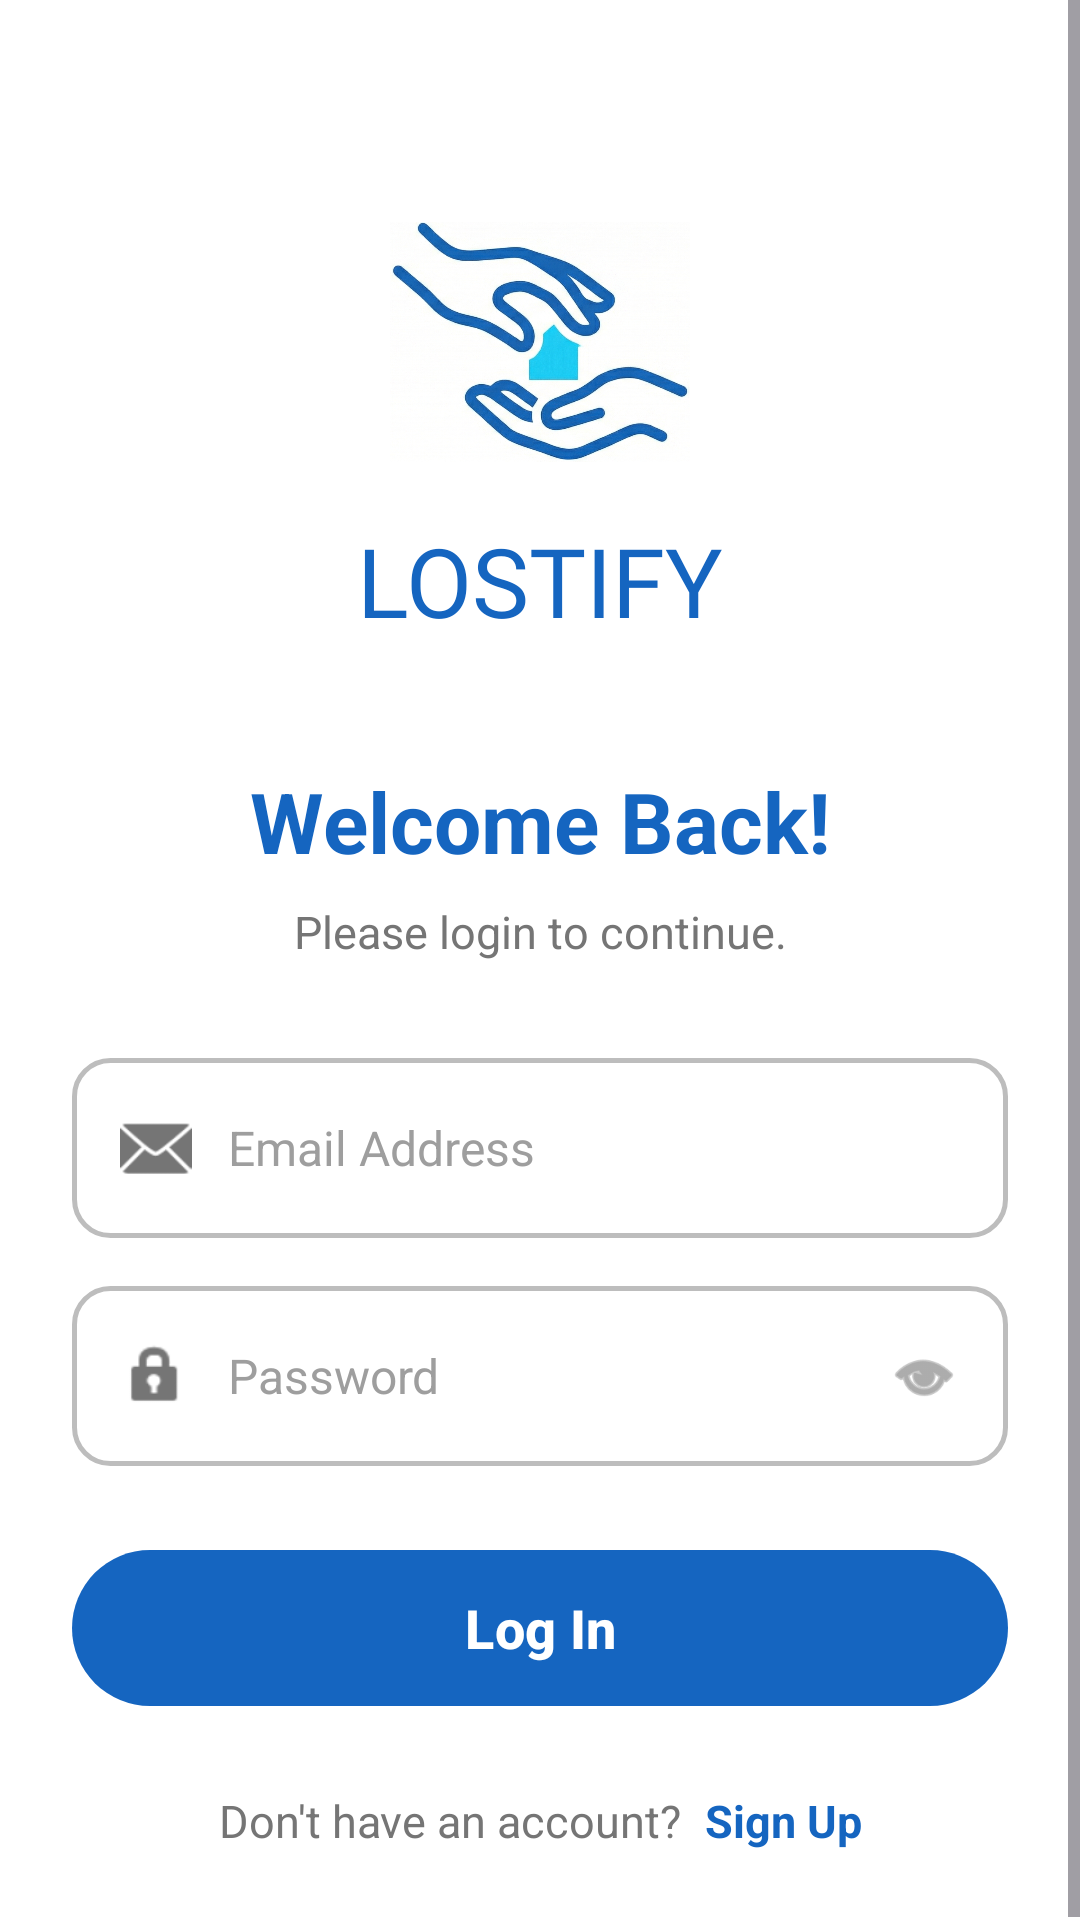

Icons on this 1080px x 1920px Android screen, each with the point to tap as point (x, y):
lock idle: point (154, 1373)
view: point (924, 1378)
